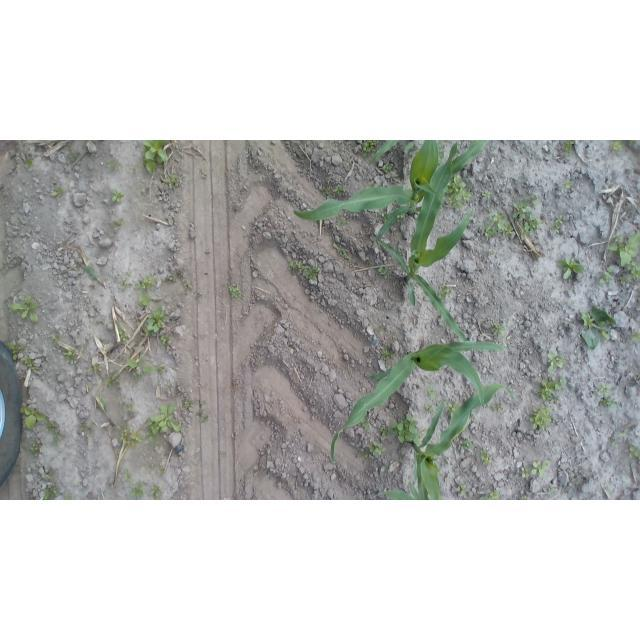Maize: (330, 341, 509, 464), (292, 140, 488, 242), (376, 141, 474, 342), (410, 384, 520, 500), (369, 140, 416, 164), (372, 482, 421, 500)
Weeds: (581, 308, 616, 351), (146, 404, 182, 444), (441, 173, 473, 211), (608, 230, 640, 266), (390, 413, 426, 445), (141, 141, 170, 176), (8, 295, 40, 323), (483, 210, 513, 238), (143, 306, 169, 337), (536, 377, 567, 403), (126, 354, 154, 380), (557, 258, 584, 281), (20, 407, 46, 430), (530, 405, 552, 431), (519, 217, 543, 240), (46, 419, 63, 447), (512, 199, 532, 222), (21, 355, 43, 375), (135, 274, 157, 292), (547, 351, 565, 373), (362, 140, 380, 158), (8, 342, 25, 361), (366, 440, 386, 456), (332, 243, 350, 260), (130, 480, 145, 500), (477, 488, 500, 501), (381, 347, 397, 364), (531, 461, 549, 476), (626, 261, 640, 280), (491, 322, 506, 339), (42, 485, 59, 500), (116, 322, 128, 342), (105, 372, 120, 388), (600, 268, 614, 285), (304, 265, 320, 279), (477, 450, 491, 466), (163, 172, 177, 188), (110, 188, 124, 204), (550, 215, 562, 233), (599, 396, 617, 408), (229, 283, 243, 298), (130, 434, 144, 449), (447, 401, 460, 417), (63, 347, 76, 363), (118, 426, 131, 442), (438, 285, 450, 302), (138, 294, 153, 307), (436, 140, 444, 164), (288, 260, 305, 271), (336, 214, 350, 227), (609, 140, 623, 153), (457, 483, 471, 496), (597, 384, 611, 397), (111, 219, 126, 231), (150, 485, 162, 500), (563, 140, 574, 156), (382, 210, 395, 223), (121, 469, 132, 484), (196, 410, 208, 423), (31, 440, 42, 454), (629, 445, 640, 459), (123, 400, 135, 412), (52, 186, 65, 197), (361, 417, 371, 431), (160, 335, 171, 347), (562, 179, 574, 190), (460, 440, 472, 451), (382, 163, 395, 173), (393, 213, 406, 223), (379, 266, 389, 279), (426, 386, 436, 399), (380, 426, 391, 437), (89, 363, 100, 374), (120, 280, 132, 290), (333, 184, 343, 196), (98, 395, 107, 408), (320, 186, 330, 197), (520, 468, 530, 479), (107, 161, 117, 172), (530, 194, 538, 207), (424, 404, 434, 414), (166, 274, 177, 283), (80, 419, 87, 433), (355, 453, 369, 460), (184, 282, 193, 292), (25, 158, 34, 168), (154, 365, 164, 374), (50, 331, 59, 341), (632, 331, 640, 342), (491, 405, 503, 412), (481, 190, 491, 198), (183, 399, 191, 409), (45, 470, 53, 480), (376, 324, 384, 333), (158, 467, 165, 477), (68, 155, 78, 162), (620, 276, 628, 284), (548, 486, 556, 493), (397, 248, 404, 256), (64, 493, 72, 500), (630, 140, 639, 146), (201, 170, 207, 178), (148, 463, 156, 469), (97, 318, 104, 324), (165, 385, 172, 391), (126, 271, 132, 277), (488, 248, 494, 254), (469, 412, 475, 418), (521, 495, 528, 500), (612, 439, 617, 446), (92, 382, 99, 387), (117, 425, 124, 430), (83, 342, 88, 348), (370, 182, 377, 186), (470, 140, 477, 144), (606, 486, 611, 491), (132, 168, 137, 173), (619, 432, 625, 436), (142, 192, 148, 196), (384, 466, 389, 470), (54, 343, 59, 347), (221, 451, 225, 455)
